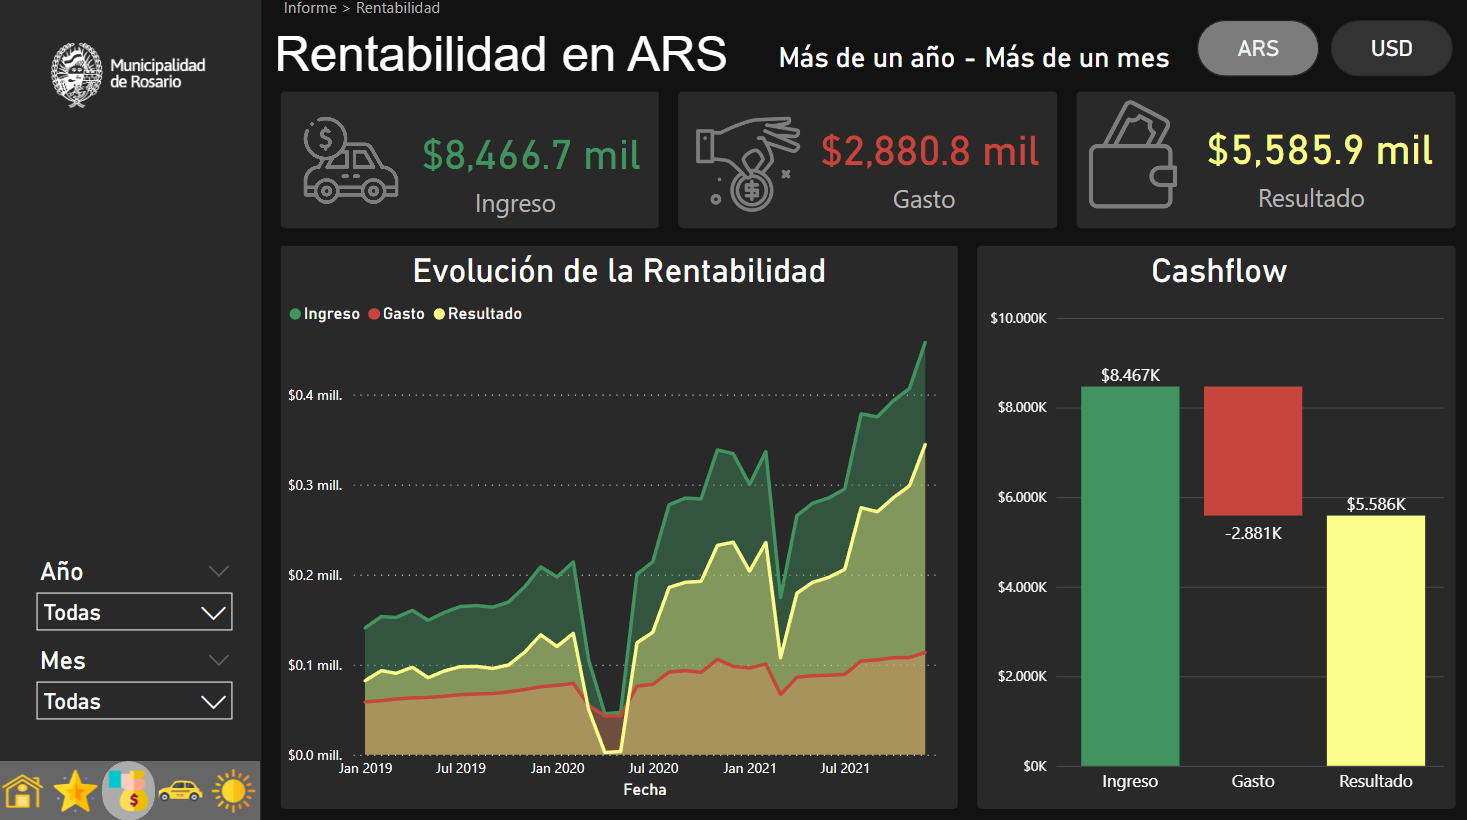

This screenshot's page, from the dashboard's own definition file:
{"tool":"powerbi","page":{"name":"Rentabilidad","canvas":[1280,720],"ordinal":2},"visuals":[{"type":"shape","box":[0,668,229,52],"z":0},{"type":"actionButton","title":"gfhgh","box":[0,668,46,52],"z":1000},{"type":"actionButton","box":[45.8,667.6,45.8,52.4],"z":2000},{"type":"actionButton","box":[91.6,667.6,45.8,52.4],"z":3000},{"type":"actionButton","box":[137.5,667.6,45.8,52.4],"z":4000},{"type":"card","title":"Resultado Mensual","fields":{"Values":["Medidas Rentabilidad.$ Prom Resultado mensual"]},"box":[1031.3,95,233.8,77.9],"z":5000},{"type":"textbox","box":[206.5,25.2,464.1,60.7],"z":6000},{"type":"textbox","box":[410.7,164,88.4,40.5],"z":7000},{"type":"textbox","box":[1089.8,159.5,115.4,42],"z":8000},{"type":"textbox","box":[772.8,160.4,74.9,42],"z":9000},{"type":"card","title":"Total Conductores","fields":{"Values":["Medidas Rentabilidad.$ ingreso mensual (bien)"]},"box":[355.2,99.6,218.8,77.9],"z":10000},{"type":"card","title":"Total Conductores","fields":{"Values":["Medidas Rentabilidad.$ gasto mensual (bien)"]},"box":[693.4,95.9,233.8,77.9],"z":11000},{"type":"SimpleWaterfall","title":"Cashflow","fields":{"measure":["Medidas Rentabilidad.$ ingreso mensual","Medidas Rentabilidad.$ gasto mensual (waterfall)","Medidas Rentabilidad.$ Resultado mensual"]},"box":[857.5,225.7,408.8,481.7],"z":12000},{"type":"areaChart","title":"Evolución de la Rentabilidad","fields":{"Category":["Calendario.Fecha"],"Y":["Medidas Rentabilidad.$ ingreso mensual","Medidas Rentabilidad.$ gasto mensual","Medidas Rentabilidad.$ Resultado mensual"]},"box":[247.7,225.7,584.9,480.3],"z":13000},{"type":"image","box":[0,0,229,145.7],"z":14000},{"type":"textbox","box":[244.6,0,154,37.1],"z":15000},{"type":"image","box":[934.4,60.5,103.9,161.7],"z":16000},{"type":"image","box":[262.3,78.7,91.8,136.4],"z":17000},{"type":"image","box":[589,54.2,127.4,191.5],"z":18000},{"type":"slicer","fields":{"Values":["Calendario.Año"]},"box":[24.8,485.8,189.9,77.1],"z":19000},{"type":"slicer","fields":{"Values":["Calendario.Mes"]},"box":[24.8,562.9,189.9,77.1],"z":20000},{"type":"bookmarkNavigator","box":[1041.9,24.8,223,49.5],"z":31000},{"type":"actionButton","box":[183.3,667.6,45.8,52.4],"z":32000},{"type":"card","title":"Total Conductores","fields":{"Values":["Medidas Utilizacion servicio.Título dinámico"]},"box":[667.5,34.4,360.6,44],"z":33000}]}

Visuals, with their boxes in screenshot pixels (x1, y1, x2, y2), scaled from the page's 1280x720 canvas onto the 1467x820 screenshot:
shape: box(0, 761, 262, 819)
"gfhgh" actionButton: box(0, 761, 53, 819)
actionButton: box(52, 760, 105, 819)
actionButton: box(105, 760, 157, 819)
actionButton: box(158, 760, 210, 819)
"Resultado Mensual" card: box(1182, 108, 1450, 197)
textbox: box(237, 29, 769, 98)
textbox: box(471, 187, 572, 233)
textbox: box(1249, 182, 1381, 229)
textbox: box(886, 183, 972, 231)
"Total Conductores" card: box(407, 113, 658, 202)
"Total Conductores" card: box(795, 109, 1063, 198)
"Cashflow" SimpleWaterfall: box(983, 257, 1451, 806)
"Evolución de la Rentabilidad" areaChart: box(284, 257, 954, 804)
image: box(0, 0, 262, 166)
textbox: box(280, 0, 457, 42)
image: box(1071, 69, 1190, 253)
image: box(301, 90, 406, 245)
image: box(675, 62, 821, 280)
slicer - Calendario.Año: box(28, 553, 246, 641)
slicer - Calendario.Mes: box(28, 641, 246, 729)
bookmarkNavigator: box(1194, 28, 1450, 85)
actionButton: box(210, 760, 263, 819)
"Total Conductores" card: box(765, 39, 1178, 89)
